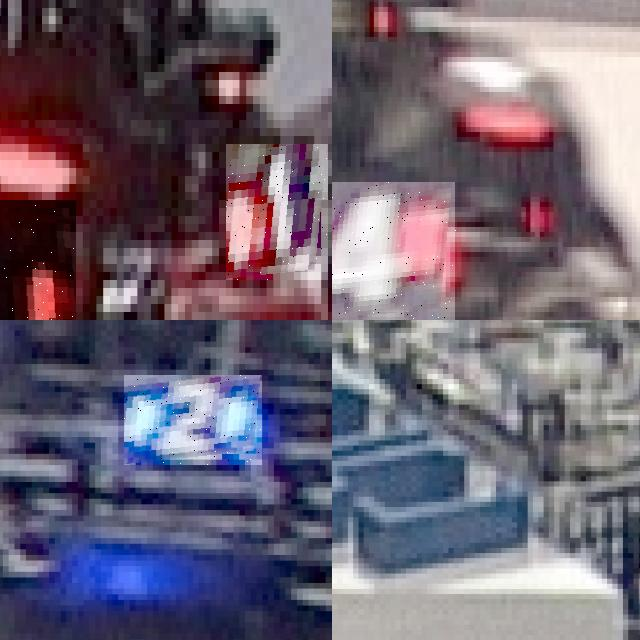B2: (124, 375, 262, 465)
R1: (226, 144, 328, 280), (0, 200, 76, 320)
R4: (332, 182, 456, 320)
